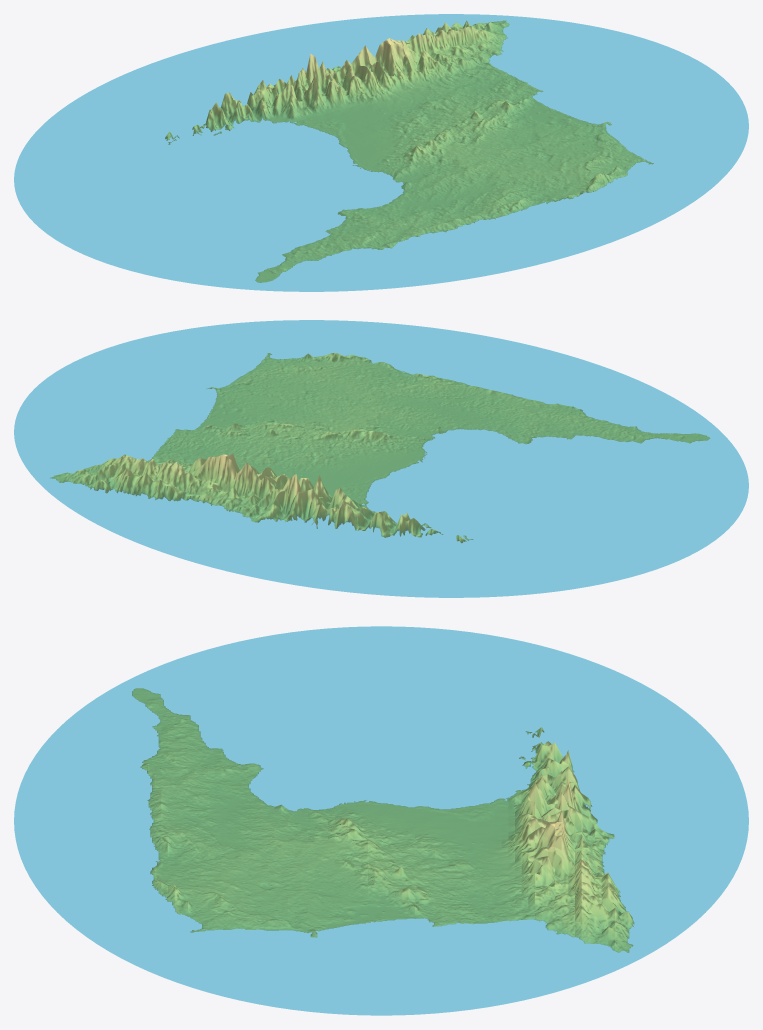
File: TTO-terrain.glb
The picture shows the model from 3 angles, top to bottom: view 1: azimuth 30°, elevation 25°; view 2: azimuth 150°, elevation 25°; view 3: azimuth 270°, elevation 25°; orthographic projection. The views are drawn at different scales.
Parts seen in each view (by area): view 1: Relevo com hidrografia; view 2: Relevo com hidrografia; view 3: Relevo com hidrografia.
Part boxes in pixels (left/top/right/bottom): Relevo com hidrografia: left=14, top=14, right=748, bottom=291; Relevo com hidrografia: left=14, top=320, right=748, bottom=597; Relevo com hidrografia: left=14, top=626, right=748, bottom=1015.
Bounding box in the file's own units: 2.36 × 0.1367 × 1.88.
Materials: 2 (1 with a texture image).
